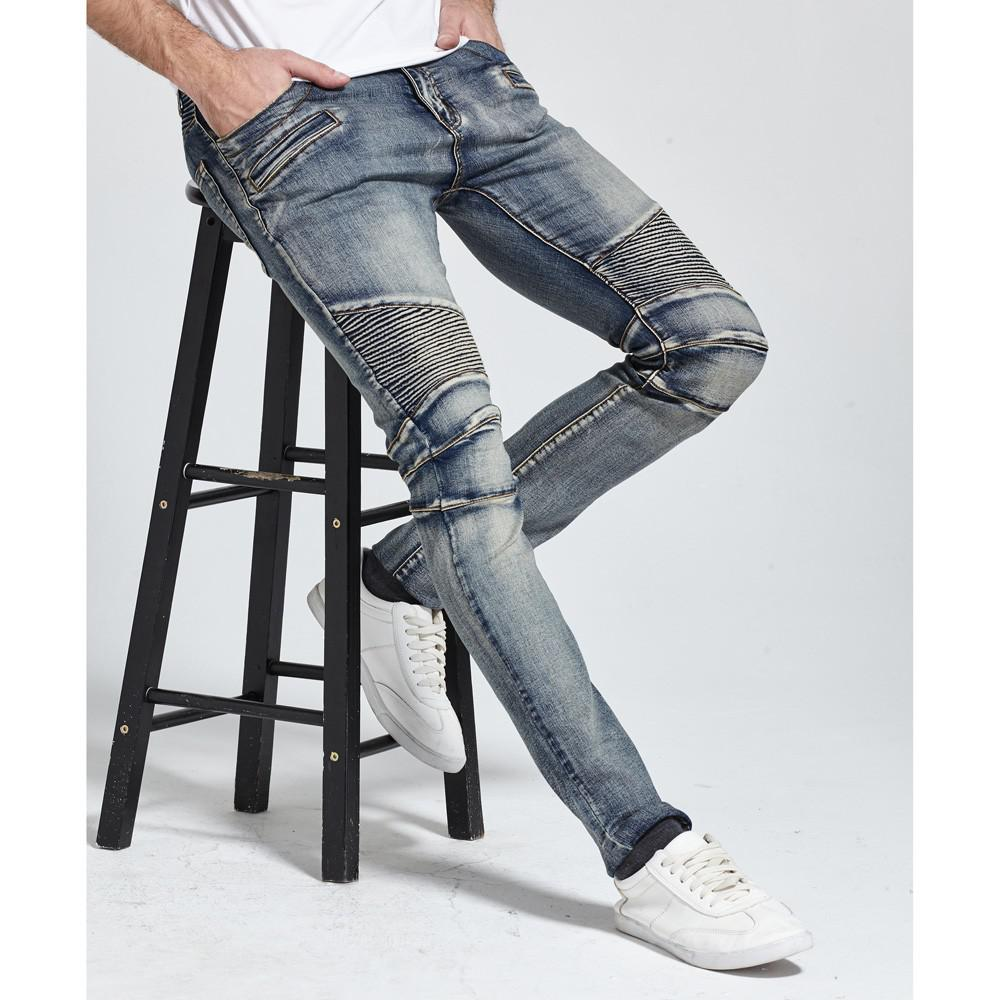jeans: (206, 34, 773, 881)
